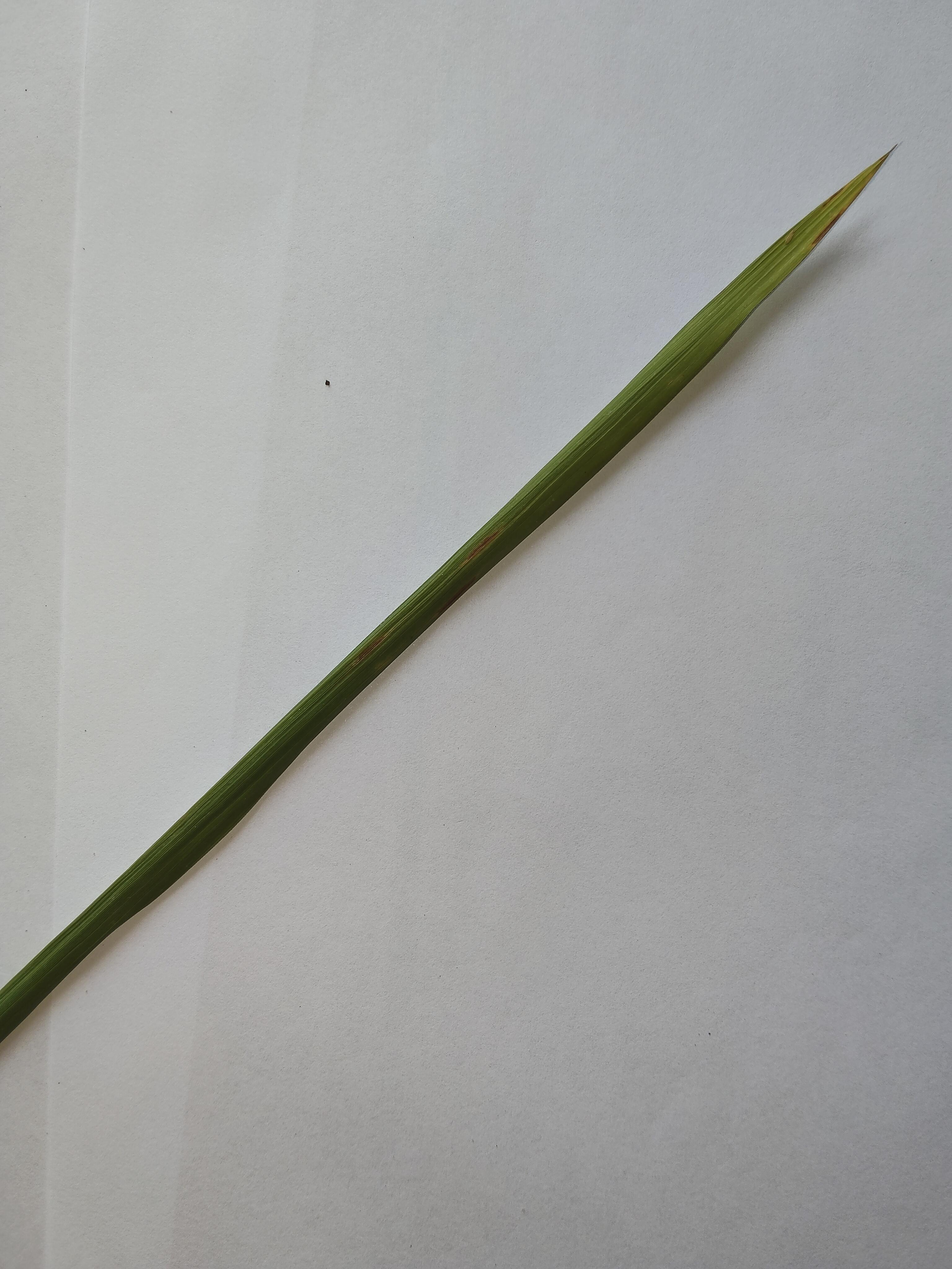NBS: (437, 578, 473, 616), (812, 208, 846, 246), (350, 633, 386, 667), (466, 531, 502, 565), (824, 184, 846, 206)
